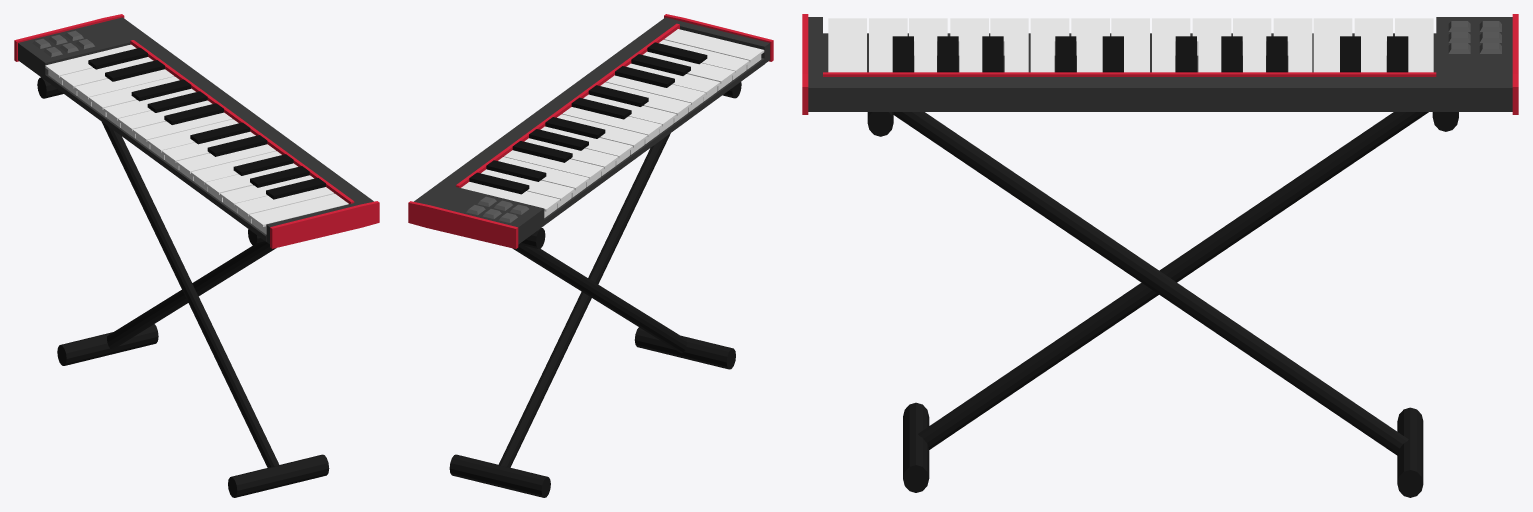
The model's file is PianoForBand.fbx.
The picture shows the model from 3 angles, left to right: view 1: azimuth 30°, elevation 25°; view 2: azimuth 150°, elevation 25°; view 3: azimuth 270°, elevation 25°; orthographic projection. The views are drawn at different scales.
Parts seen in each view (by area): view 1: Front_low, Cylinder, Cylinder.002, Back_low, C++_low, E_low, B+_low, E+_low, B_low, D+_low, D_low, C+_low (+18 smaller); view 2: Front_low, Cylinder.002, Cylinder, Back_low, C++_low, C+_low, F+_low, F_low, C_low, E_low, D_low, D+_low (+18 smaller); view 3: Front_low, Cylinder.002, Cylinder, Back_low, C++_low, E_low, D+_low, C+_low, C_low, E+_low, F_low, D_low (+18 smaller).
Part boxes in pixels (x1,y1,x2,y2): Front_low: (14, 14, 379, 248); Cylinder: (37, 77, 329, 497); Cylinder.002: (57, 229, 276, 365); Back_low: (45, 40, 354, 241); C++_low: (249, 194, 348, 234); E_low: (74, 69, 174, 106); B+_low: (234, 187, 334, 223); E+_low: (176, 144, 275, 181); B_low: (132, 112, 232, 149); D+_low: (161, 131, 255, 170); D_low: (59, 57, 153, 95); C+_low: (147, 119, 238, 159); Front_low: (408, 14, 773, 248); Cylinder.002: (449, 82, 741, 497); Cylinder: (512, 228, 735, 369); Back_low: (456, 23, 764, 225); C++_low: (664, 29, 764, 69); C+_low: (562, 107, 662, 144); F+_low: (606, 75, 705, 112); F_low: (504, 150, 603, 186); C_low: (461, 182, 560, 217); E_low: (498, 157, 589, 197); D_low: (481, 169, 574, 208); D+_low: (583, 94, 676, 133); Front_low: (802, 14, 1518, 114); Cylinder.002: (867, 112, 1423, 497); Cylinder: (903, 112, 1458, 492); Back_low: (823, 33, 1436, 76); C++_low: (828, 18, 866, 72); E_low: (1313, 18, 1352, 72); D+_low: (1071, 18, 1109, 72); C+_low: (1111, 18, 1149, 72); C_low: (1395, 18, 1433, 72); E+_low: (1030, 18, 1069, 72); F_low: (1273, 18, 1312, 72); D_low: (1354, 18, 1392, 72).
Bounding box in the file's own units: 269 × 719 × 1117.
